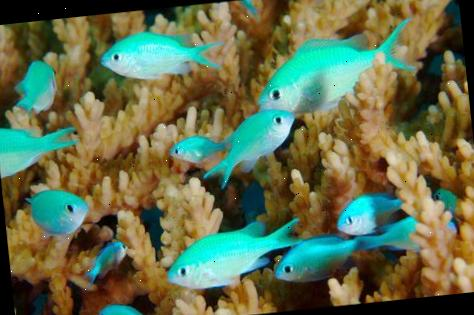fish: (251, 16, 420, 118), (162, 216, 307, 290), (199, 109, 300, 189), (98, 23, 223, 85), (272, 231, 358, 284), (0, 118, 77, 176), (353, 212, 458, 254), (11, 58, 61, 126), (25, 186, 90, 238), (336, 191, 404, 236), (82, 239, 129, 284), (167, 132, 226, 166), (98, 300, 153, 315)
